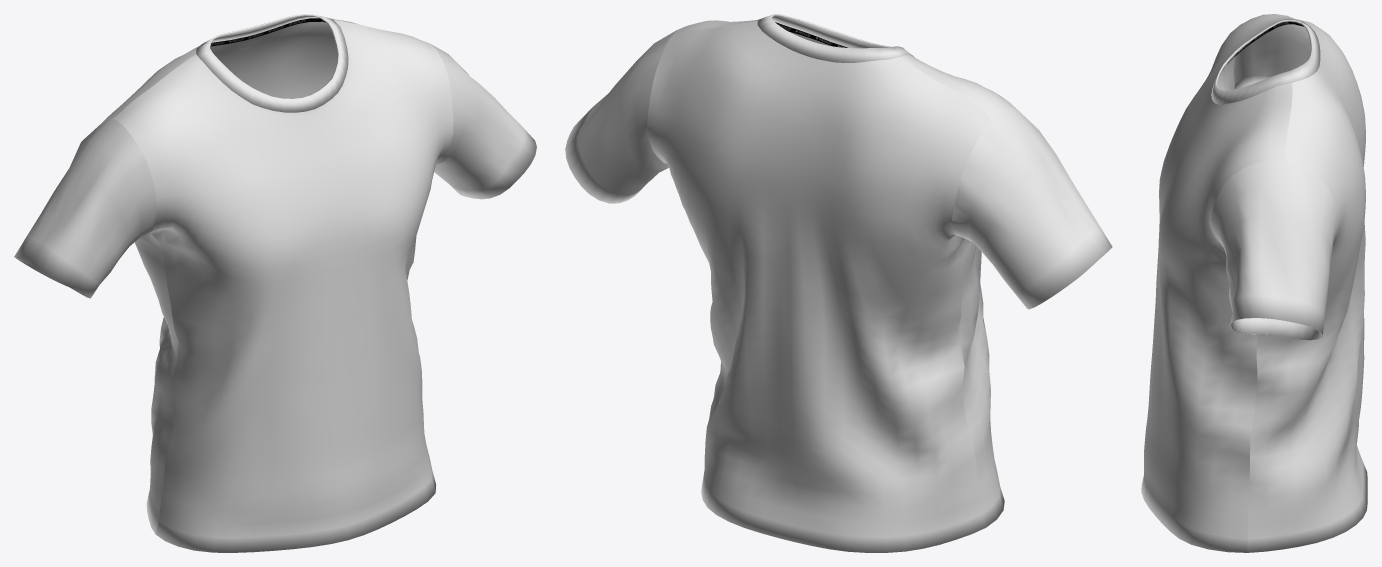
Rendered from crewneck-transformed.glb.
The picture shows the model from 3 angles, left to right: view 1: azimuth 30°, elevation 25°; view 2: azimuth 150°, elevation 25°; view 3: azimuth 270°, elevation 25°; orthographic projection. The views are drawn at different scales.
Visible parts, largest first — view 1: crewneck_back, crewneck_inside; view 2: crewneck_back; view 3: crewneck_back, crewneck_inside.
Boxes of the visible parts, x1,y1,x2,y2 form: crewneck_back: [14, 14, 536, 552]; crewneck_inside: [173, 18, 337, 415]; crewneck_back: [565, 14, 1112, 552]; crewneck_back: [1141, 14, 1367, 552]; crewneck_inside: [1217, 21, 1310, 530].
Bounding box in the file's own units: 0.6751 × 0.5906 × 0.27.
4 materials, 2 textured.
